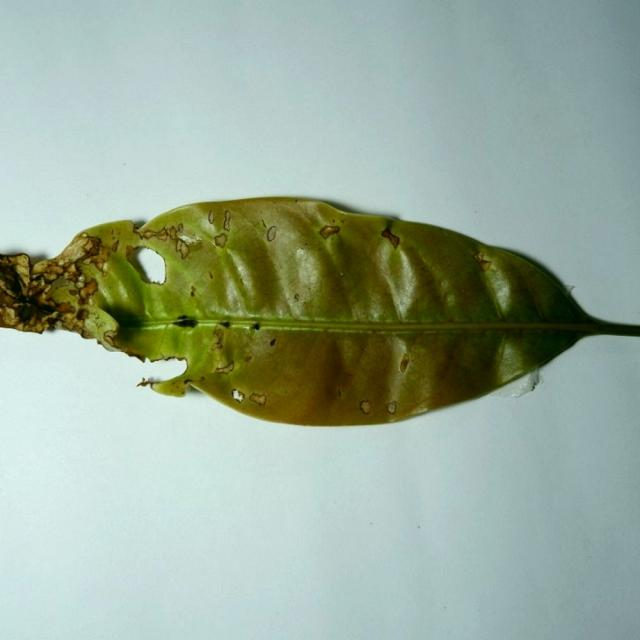Anthracnose: (54, 233, 101, 268), (132, 246, 168, 283), (80, 238, 114, 274), (147, 376, 193, 397), (145, 350, 184, 365), (77, 279, 99, 302), (15, 262, 32, 291), (380, 228, 400, 249), (472, 250, 492, 271), (116, 345, 144, 360), (27, 281, 49, 300), (318, 223, 340, 241), (33, 289, 54, 307), (82, 236, 101, 255), (14, 253, 31, 274), (31, 260, 53, 276), (2, 306, 20, 325), (173, 315, 198, 328), (177, 232, 200, 246), (211, 327, 225, 349), (214, 361, 235, 375), (102, 330, 119, 347), (53, 301, 75, 314), (46, 262, 65, 277), (1, 291, 18, 307), (249, 392, 266, 406), (213, 233, 227, 249), (178, 241, 190, 259), (399, 354, 410, 373), (231, 388, 245, 402), (124, 244, 136, 260), (137, 229, 156, 239), (359, 400, 372, 414), (81, 326, 95, 339), (266, 226, 277, 242), (223, 210, 231, 230), (76, 309, 89, 321), (30, 274, 44, 285), (136, 377, 151, 387), (387, 401, 398, 414), (156, 229, 168, 240), (46, 318, 59, 328), (110, 239, 119, 253), (169, 227, 178, 241), (45, 271, 57, 281), (473, 251, 484, 261), (54, 259, 65, 269), (54, 320, 65, 330), (219, 320, 231, 329), (29, 315, 39, 325), (208, 210, 215, 224), (75, 277, 84, 287), (176, 223, 184, 234), (190, 285, 197, 297), (251, 322, 260, 330), (244, 355, 252, 363), (184, 379, 192, 387), (269, 338, 276, 346), (133, 224, 140, 232), (197, 376, 206, 382), (294, 294, 300, 301), (261, 219, 266, 227), (337, 389, 342, 397), (81, 232, 87, 238), (209, 271, 213, 279), (341, 219, 345, 224), (332, 218, 336, 223), (294, 199, 298, 203)
Mango: (0, 197, 639, 430)
